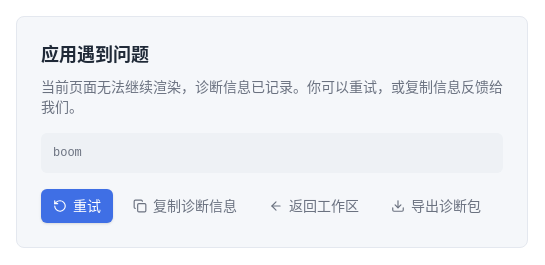
Test: ErrorBoundary › 复制诊断信息写入剪贴板
What coordinates should you click on to do the following:
click the button "复制诊断信息"
I would click on:
 (185, 206)
Its box is [121,189,249,223].
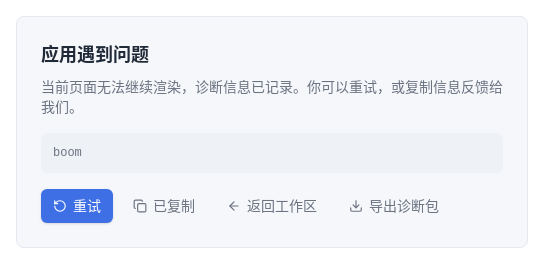
Expected: the button "已复制" is shown, [121,189,207,223]
